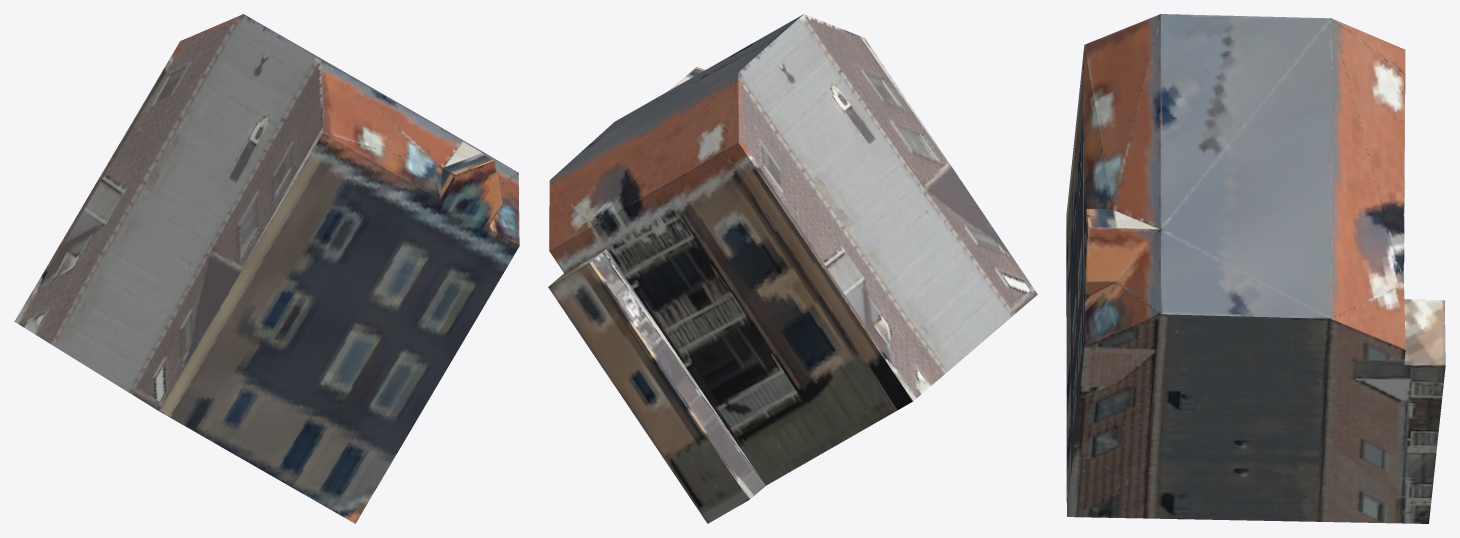
3 views of the same model, side by side, from view 1: azimuth 30°, elevation 25°; view 2: azimuth 150°, elevation 25°; view 3: azimuth 270°, elevation 25° (orthographic). The views are drawn at different scales.
Visible parts, largest first — view 1: BAG_0599100000688713 (×5); view 2: BAG_0599100000688713 (×5); view 3: BAG_0599100000688713 (×6).
Part boxes in pixels (<box>): BAG_0599100000688713 (×5): <box>14,14,519,523</box>; BAG_0599100000688713 (×5): <box>548,14,1037,523</box>; BAG_0599100000688713 (×6): <box>1066,14,1445,523</box>.
Bounding box in the file's own units: 15.63 × 16.24 × 10.77.
Materials: 6 (6 with a texture image).
